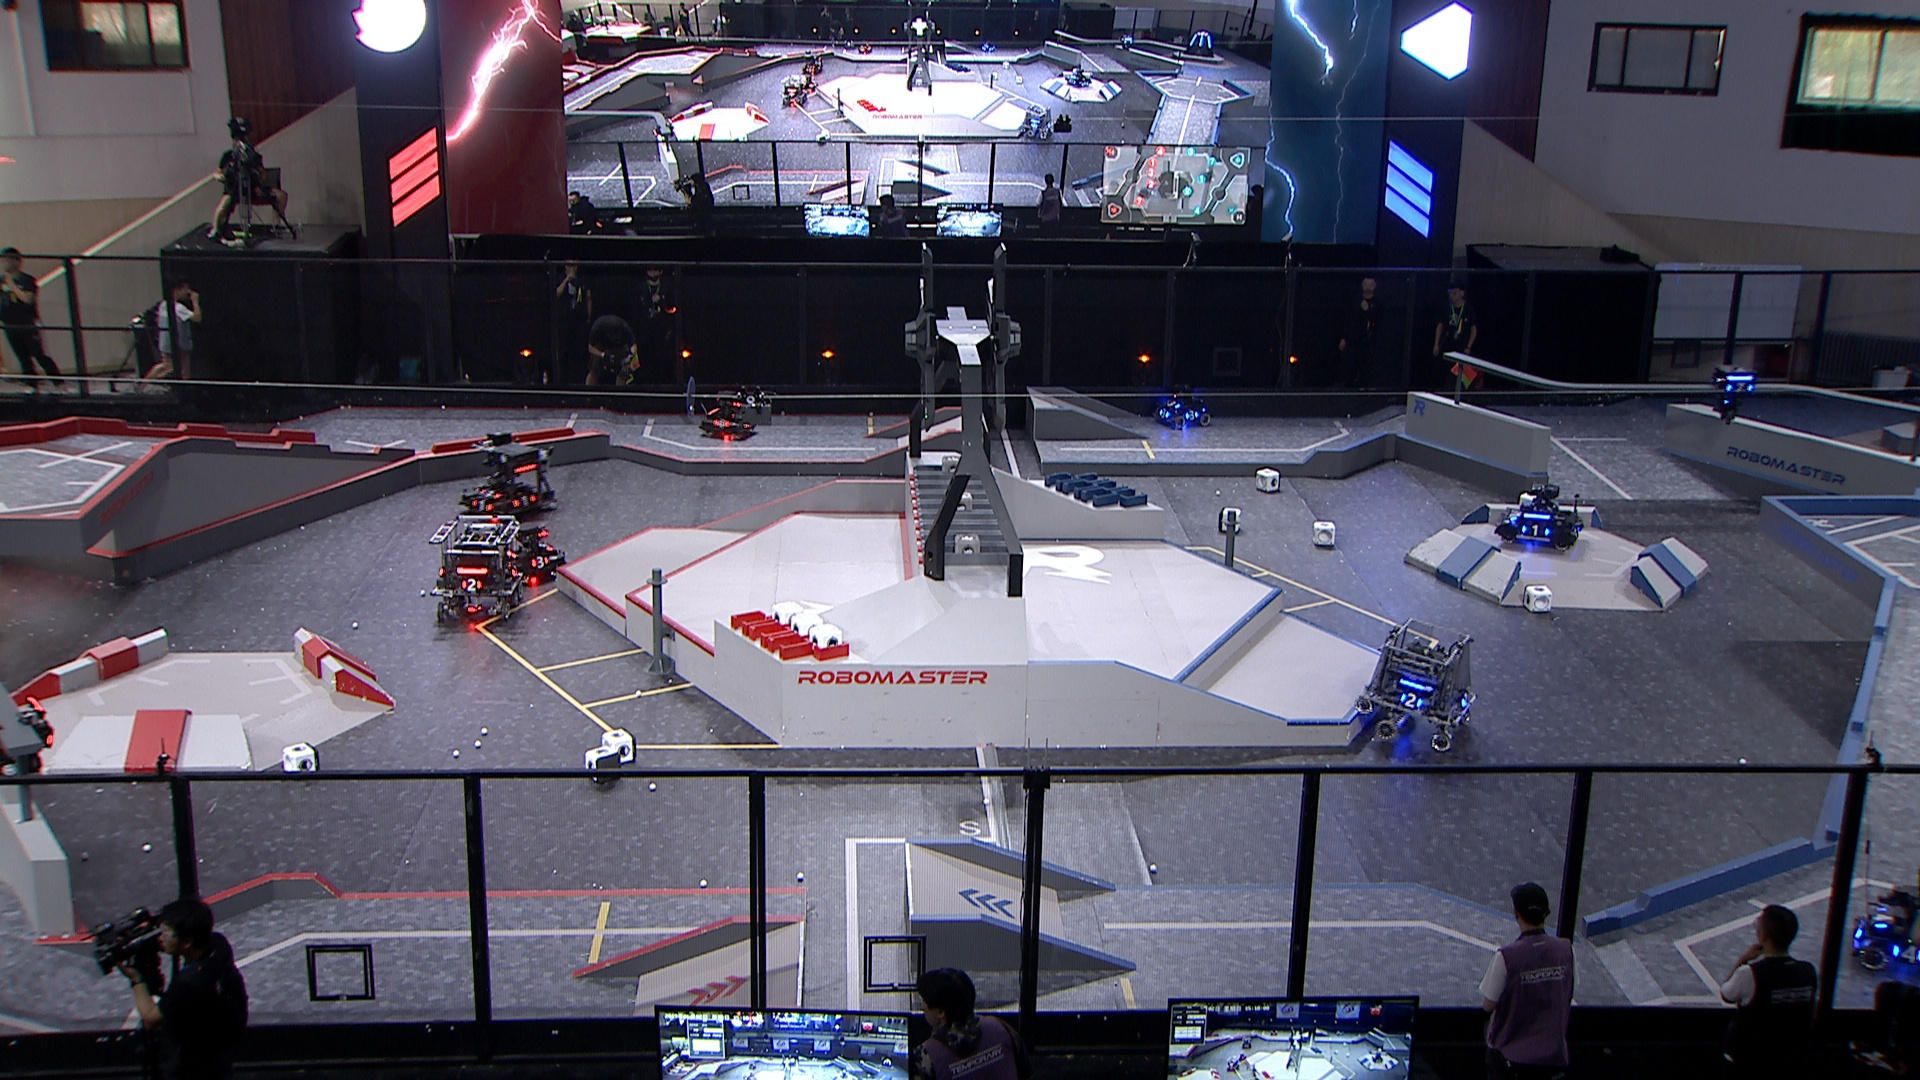armor: (1869, 905, 1894, 931), (1890, 942, 1920, 963), (1396, 694, 1427, 709), (510, 491, 535, 509), (458, 576, 484, 593), (1522, 524, 1551, 538), (469, 496, 493, 513), (1724, 382, 1754, 396), (529, 555, 553, 571), (476, 487, 504, 498), (1460, 688, 1476, 708), (712, 418, 732, 431), (534, 541, 555, 553), (1505, 509, 1523, 520), (1155, 409, 1172, 419), (1185, 409, 1203, 419), (1163, 400, 1182, 409)
car: (1353, 618, 1480, 754), (429, 516, 526, 626), (463, 433, 560, 524), (1491, 477, 1585, 555), (1849, 884, 1920, 975), (496, 524, 566, 583), (698, 392, 760, 438), (1153, 384, 1211, 429)
ignore: (1021, 102, 1059, 142), (779, 73, 808, 105), (1182, 30, 1215, 58), (800, 50, 825, 76), (1062, 65, 1091, 87)
watcher: (1706, 363, 1756, 422)
